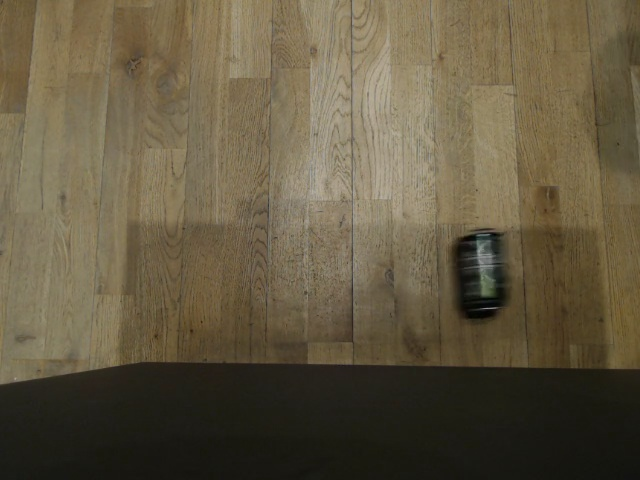beer: (453, 228, 512, 316)
